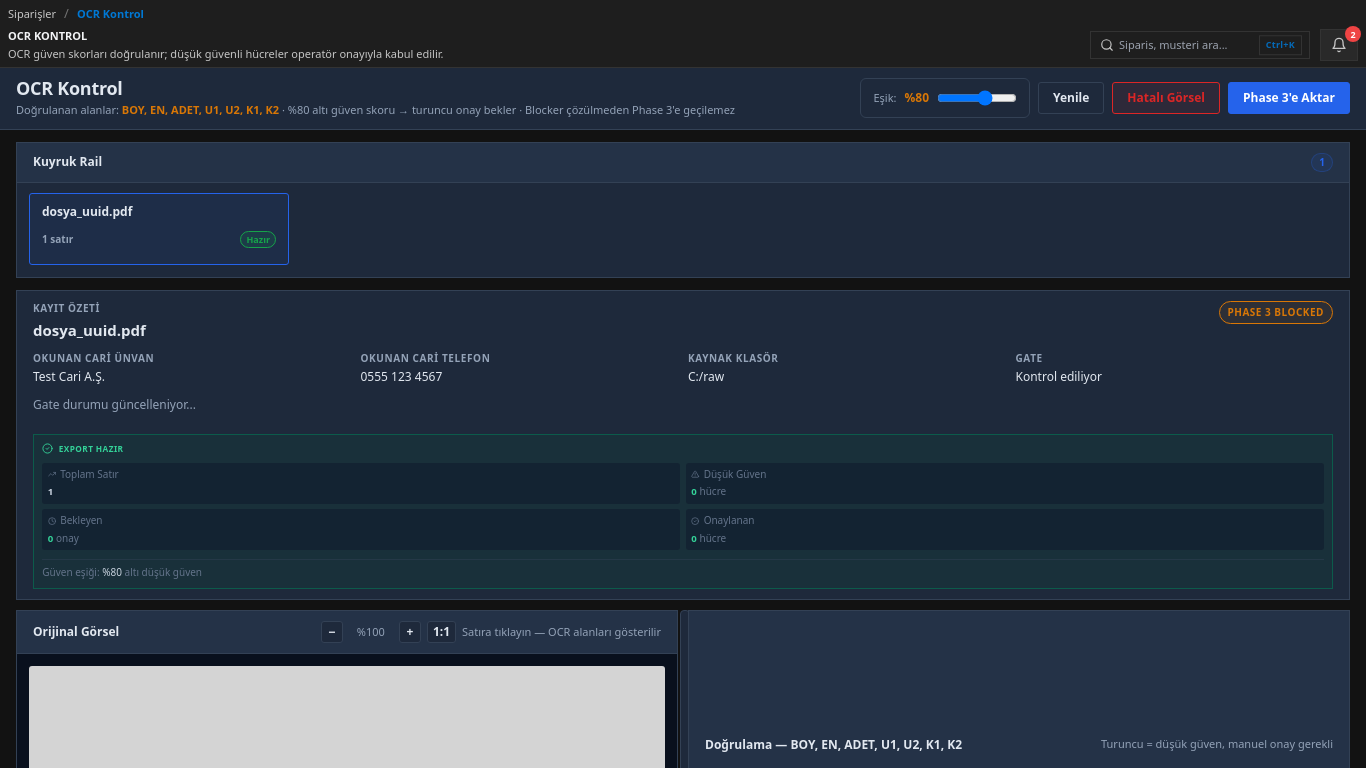
Scenario: OCRKontrolPage › backend blocker rejection geldiğinde Phase 3 geçiş hatasını alertte gösterir
The image size is (1366, 768).
Click the button "Phase 3'e Aktar" at {"x": 1289, "y": 98}, box [1228, 82, 1350, 114]
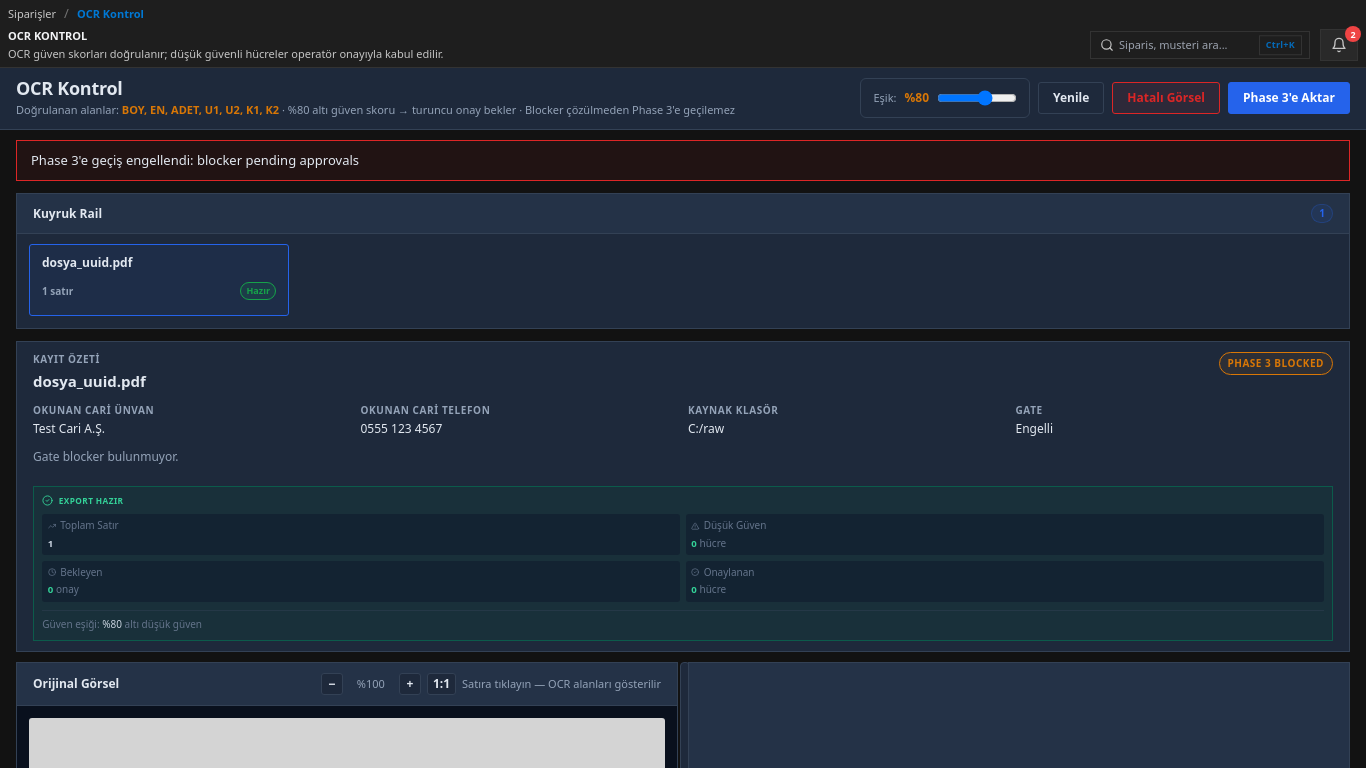
Expected: the message reads "Phase 3'e geçiş engellendi: blocker pending approvals", [31, 151, 359, 169]
